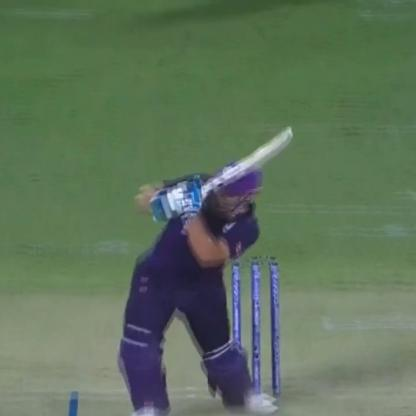bat: (173, 128, 297, 185)
